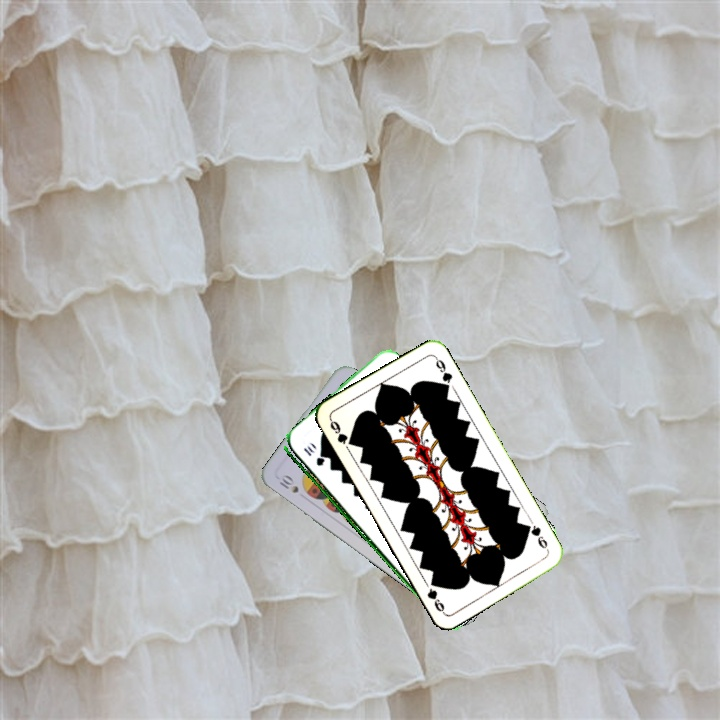G10: (299, 442, 326, 469)
G9: (326, 415, 357, 448), (522, 520, 551, 554)
S10: (275, 472, 301, 496)
